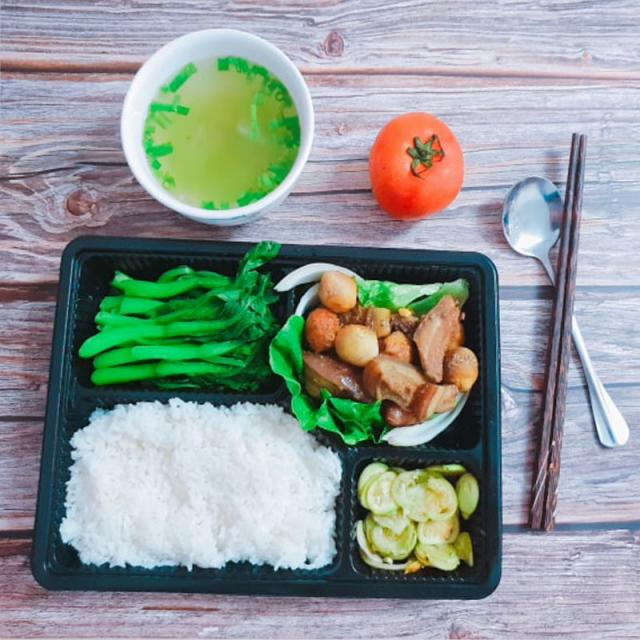com: (59, 399, 341, 570)
kho trung: (303, 270, 478, 426)
